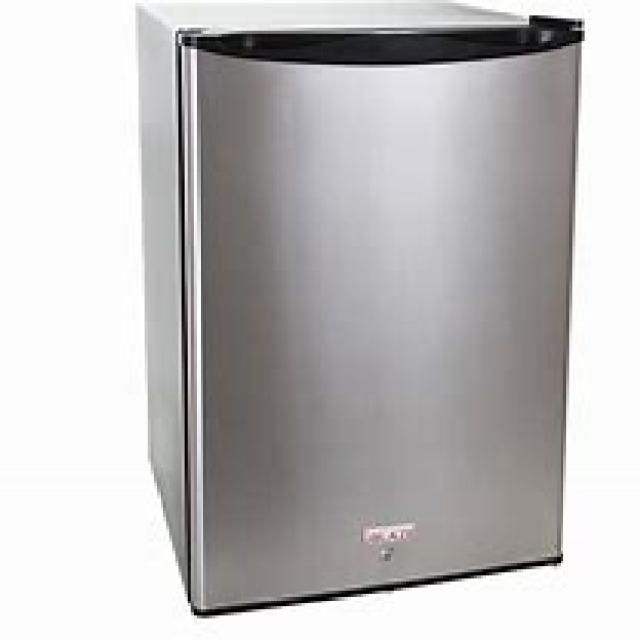fridge: (132, 0, 584, 615)
